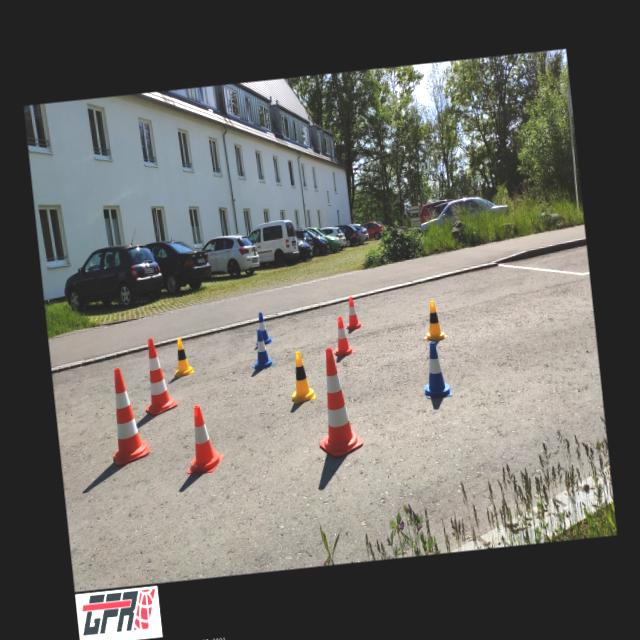blue_cone: (418, 339, 452, 398), (248, 328, 275, 370), (257, 311, 272, 344)
large_orange_cone: (309, 344, 364, 459), (104, 364, 150, 466), (138, 336, 176, 415)
orange_cone: (180, 402, 224, 474), (330, 315, 354, 357), (342, 295, 364, 330)
yellow_cone: (287, 349, 316, 404), (420, 300, 448, 340), (170, 336, 193, 377)
